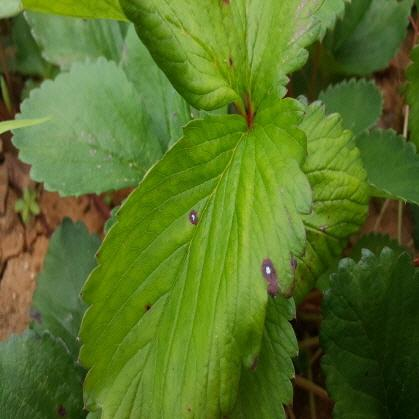Leaf Spot: (72, 97, 313, 418), (117, 0, 346, 126), (293, 95, 370, 310), (26, 216, 102, 356), (0, 327, 88, 418)
